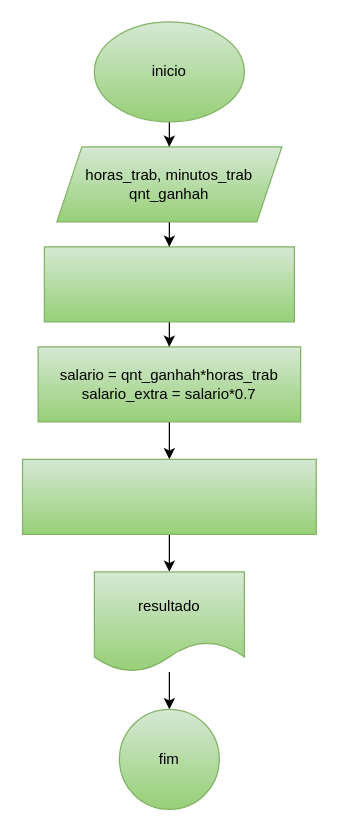
Some shapes in this 338 by 831 pixel diagram are drawn without their labels. Here are the shapes that lost their labels. From the top down, the centre of each, then its label:
the point at 168,284: min_dec = minutos/60 hr_dec = hora + min_dec
the point at 168,496: salario_definitivo = salario+salario_extra
